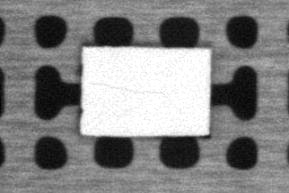DIE_CRACK: (87, 81, 170, 99)
